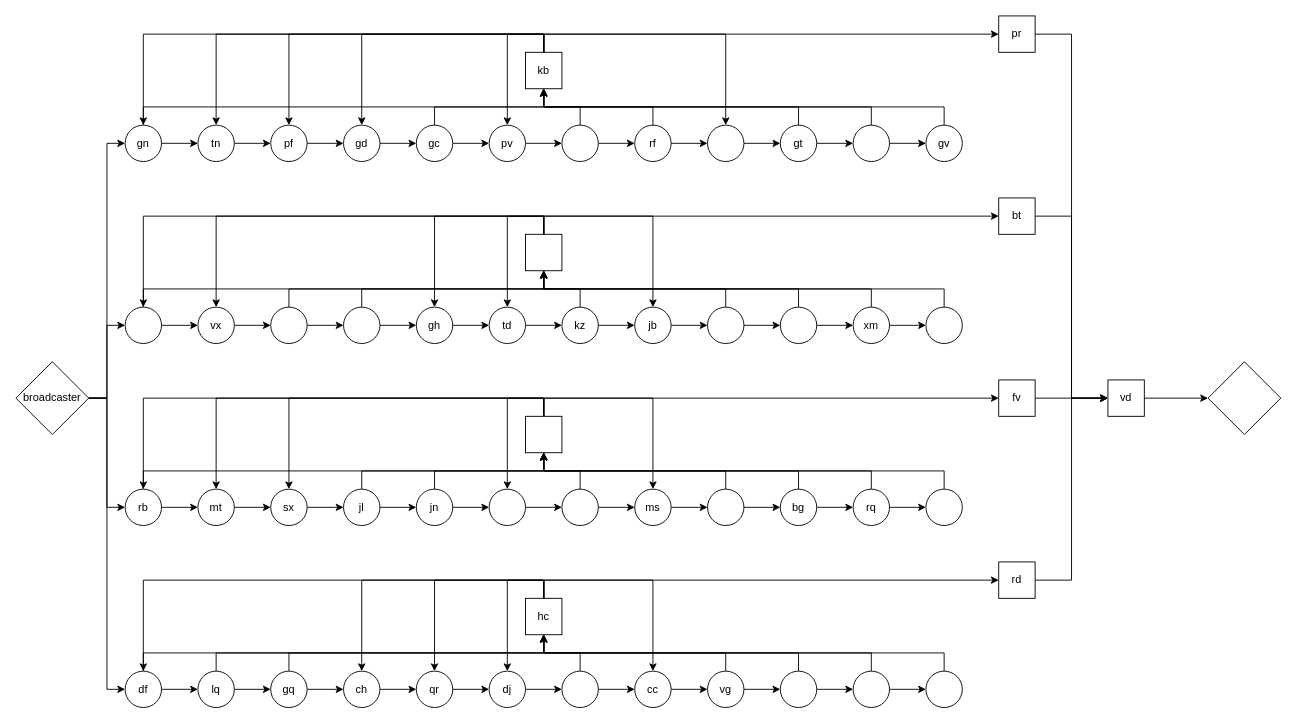
This 1297x723 diagram has some shape labels left out. The shapes that lost their labels are listed below. From the top down, each one's centre as x and y in pixels, then its label:
At pixel 579 143: "ps".
At pixel 725 143: "nm".
At pixel 871 143: "pp".
At pixel 543 252: "qt".
At pixel 143 325: "gb".
At pixel 288 325: "fp".
At pixel 361 325: "rp".
At pixel 725 325: "fz".
At pixel 798 325: "zq".
At pixel 943 325: "cs".
At pixel 1244 398: "rx".
At pixel 543 434: "ck".
At pixel 507 507: "nz".
At pixel 579 507: "hh".
At pixel 725 507: "xz".
At pixel 943 507: "ts".
At pixel 579 689: "nl".
At pixel 798 689: "fr".
At pixel 871 689: "ks".
At pixel 943 689: "lc".
